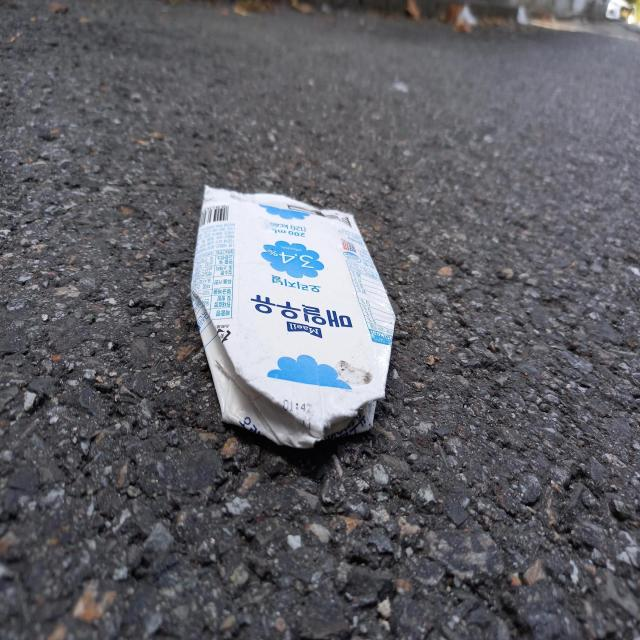paperpack: (191, 185, 396, 448)
